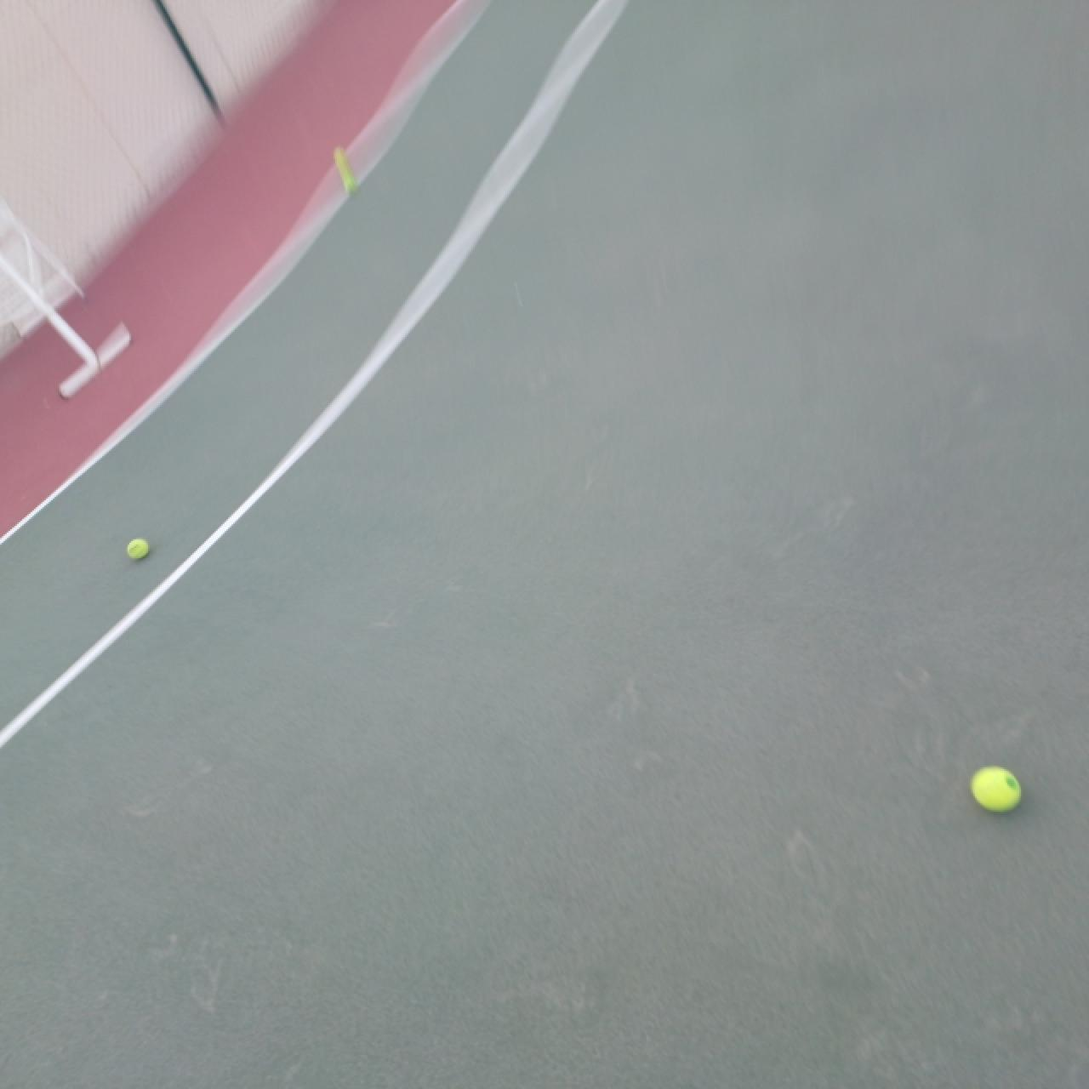tennis-ball: (970, 765, 1022, 813), (126, 537, 150, 561), (340, 175, 361, 196)
